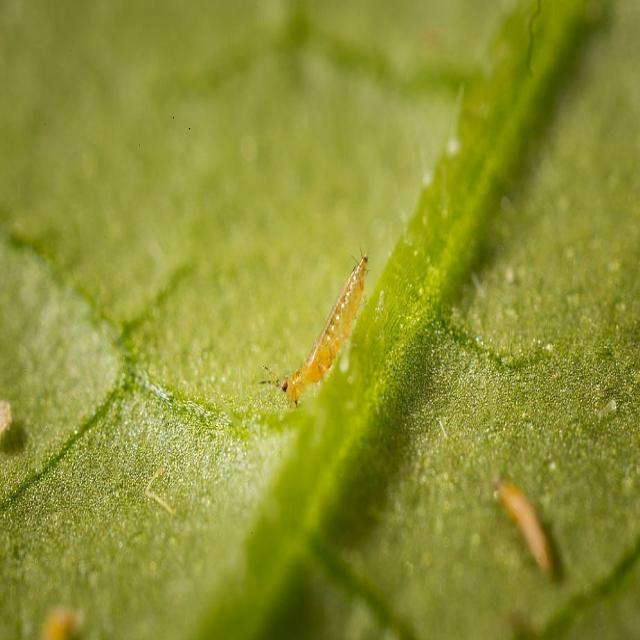Thrip-Adult-: (256, 249, 372, 414)
